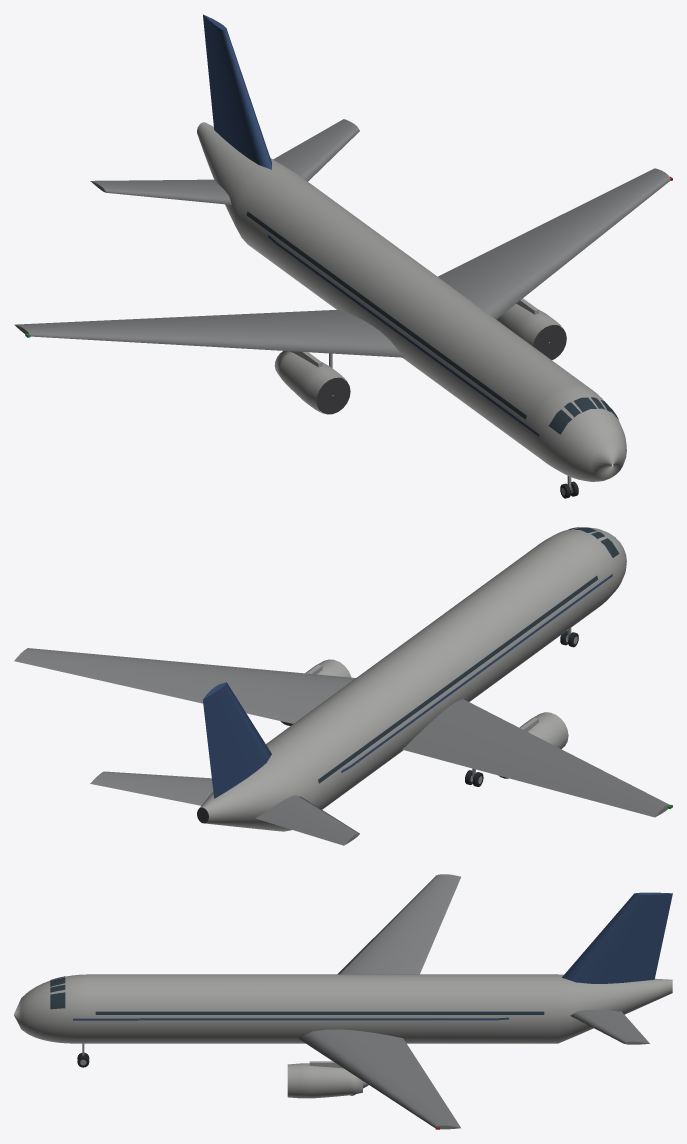
The model's file is airliner.glb.
The picture shows the model from 3 angles, top to bottom: view 1: azimuth 30°, elevation 25°; view 2: azimuth 150°, elevation 25°; view 3: azimuth 270°, elevation 25°; orthographic projection. The views are drawn at different scales.
Visible parts, largest first — view 1: paint-body, belly-body, trim-body, glass-body, fan-body; view 2: paint-body, belly-body, trim-body, glass-body; view 3: paint-body, belly-body, trim-body, glass-body.
Boxes of the visible parts, bbox=[...] form: paint-body: bbox=[197, 122, 626, 481]; belly-body: bbox=[14, 119, 670, 357]; trim-body: bbox=[203, 14, 539, 436]; glass-body: bbox=[246, 211, 618, 434]; fan-body: bbox=[316, 325, 566, 414]; paint-body: bbox=[199, 527, 626, 831]; belly-body: bbox=[14, 648, 669, 845]; trim-body: bbox=[203, 574, 612, 798]; glass-body: bbox=[318, 527, 619, 783]; paint-body: bbox=[14, 974, 672, 1098]; belly-body: bbox=[298, 874, 649, 1129]; trim-body: bbox=[73, 892, 672, 1020]; glass-body: bbox=[50, 976, 544, 1014].
Bounding box in the file's own units: 34.18 × 10.84 × 37.61.
